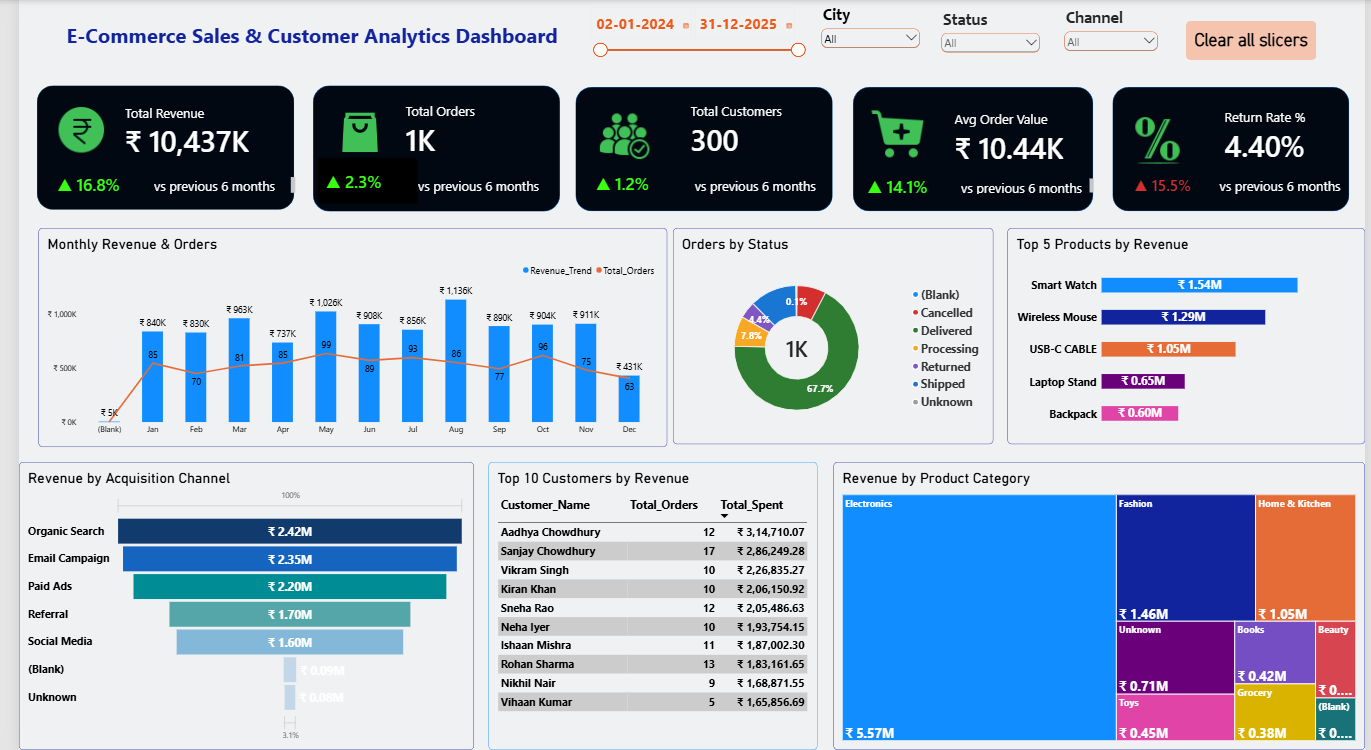

The dashboard page shown, as its layout file describes it:
{"tool":"powerbi","page":{"name":"EXECUTIVE_INSIGHTS","canvas":[2500,1400],"ordinal":0},"visuals":[{"type":"shape","box":[2030.5,161.3,439.6,230.9],"z":0},{"type":"shape","box":[1549.7,161.3,445.9,230.9],"z":1000},{"type":"shape","box":[1034.2,161.3,477.6,230.9],"z":2000},{"type":"shape","box":[545.9,158.8,458.6,234],"z":3000},{"type":"shape","box":[34.8,158.1,477.6,230.9],"z":4000},{"type":"cardVisual","fields":{"Data":["Categories_Clean.Total_Orders_Filtered"]},"box":[702.1,170.8,189.4,144.8],"z":5000},{"type":"cardVisual","fields":{"Data":["Categories_Clean.Total_Customers"]},"box":[1230.3,180.3,206.1,122.5],"z":6000},{"type":"cardVisual","fields":{"Data":["Categories_Clean.Average_Order_value"]},"box":[1720.8,191.2,274.2,129.9],"z":7000},{"type":"cardVisual","fields":{"Data":["Categories_Clean.Return_%_By_Category_Product"]},"box":[2222.9,190.7,244.3,128.1],"z":8000},{"type":"cardVisual","fields":{"Data":["Categories_Clean.Total_Revenue"]},"box":[180.3,177.1,300.5,142.3],"z":9000},{"type":"treemap","title":"Revenue by Product Category","fields":{"Group":["Categories_Clean.category_name"],"Values":["Categories_Clean.Total_Revenue"]},"box":[1511.8,857.1,986.8,534.5],"z":10000},{"type":"donutChart","title":"Orders by Status","fields":{"Category":["dim_orders.Status"],"Y":["Categories_Clean.Total_Orders_By_Product"]},"box":[1214.5,423.8,594.6,401.7],"z":11000},{"type":"slicer","fields":{"Values":["dim_Customers.city"]},"box":[1483.3,9.5,192.9,117],"z":12000},{"type":"slicer","fields":{"Values":["dim_orders.Status"]},"box":[1707.9,15.8,192.9,94.9],"z":13000},{"type":"slicer","fields":{"Values":["dim_Customers.acquisition_channel"]},"box":[1935.6,12.7,183.4,117],"z":14000},{"type":"slicer","fields":{"Values":["Calendar.Date"]},"box":[1056.4,9.5,408,136],"z":15000},{"type":"barChart","title":"Top 5  Products by Revenue","fields":{"Category":["dim_products.product_name"],"Series":["dim_products.product_name"],"Y":["Categories_Clean.Total_Revenue"]},"box":[1834.4,423.8,664.2,401.7],"z":16000},{"type":"funnel","title":"Revenue by Acquisition Channel","fields":{"Category":["dim_Customers.acquisition_channel"],"Y":["Categories_Clean.Total_Revenue"]},"box":[0,857.1,844.4,534.5],"z":17000},{"type":"lineStackedColumnComboChart","title":"Monthly Revenue & Orders","fields":{"Category":["Calendar.Month"],"Y":["Categories_Clean.Total_Revenue"],"Y2":["Categories_Clean.Total_Orders"]},"box":[36.2,423.4,1167,406.6],"z":18000},{"type":"cardVisual","fields":{"Data":["Categories_Clean.Revenue_Trend_Indicator"]},"box":[56.9,291,196.1,82.2],"z":19000},{"type":"image","box":[56.9,196.1,120.2,91.7],"z":20000},{"type":"textbox","box":[250.7,328.7,261.8,30.6],"z":21000},{"type":"image","box":[554.3,200.5,158.1,91.7],"z":22000},{"type":"textbox","box":[740.1,328.9,246.7,44.3],"z":23000},{"type":"image","box":[1046.9,202.4,155,91.7],"z":24000},{"type":"cardVisual","fields":{"Data":["Categories_Clean.Customers_Trend_Indicator"]},"box":[1056.4,306.8,173.9,66.4],"z":25000},{"type":"textbox","box":[1229.1,327.3,263.2,44.9],"z":26000},{"type":"image","box":[1562.4,196.1,145.5,107.5],"z":27000},{"type":"cardVisual","fields":{"Data":["Categories_Clean.AOV_Trend_Indicator"]},"box":[1559.2,309.9,189.8,75.9],"z":28000},{"type":"textbox","box":[1749,332.1,246.7,28.5],"z":29000},{"type":"image","box":[2062.1,211.9,104.4,91.7],"z":30000},{"type":"cardVisual","fields":{"Data":["Categories_Clean.Return_Rate_Trend_Indicator_Category_Product"]},"box":[2055.8,309.9,167.6,69.6],"z":31000},{"type":"textbox","box":[2223.4,328.9,243.5,63.3],"z":32000},{"type":"tableEx","title":"Top 10 Customers by Revenue","fields":{"Values":["dim_Customers.Full_Name","Categories_Clean.Total_Orders_Display","Categories_Clean.Total_Revenue"]},"box":[872.9,857.1,610.4,534.5],"z":33000},{"type":"actionButton","box":[2166.5,38,242.3,72.4],"z":34000},{"type":"cardVisual","fields":{"Data":["Categories_Clean.Orders_Trend_Indicator_Category_Product"]},"box":[554.3,292.4,186.6,86.3],"z":35000},{"type":"textbox","box":[34.8,38,1021.6,72.7],"z":36000}]}

Visuals, with their boxes in screenshot pixels (x1, y1, x2, y2), scaled from the page's 2500x1400 canvas onto the 1371x750 screenshot:
shape: 1114, 86, 1355, 210
shape: 850, 86, 1094, 210
shape: 567, 86, 829, 210
shape: 299, 85, 551, 210
shape: 19, 85, 281, 208
cardVisual - Categories_Clean.Total_Orders_Filtered: 385, 92, 489, 169
cardVisual - Categories_Clean.Total_Customers: 675, 97, 788, 162
cardVisual - Categories_Clean.Average_Order_value: 944, 102, 1094, 172
cardVisual - Categories_Clean.Return_%_By_Category_Product: 1219, 102, 1353, 171
cardVisual - Categories_Clean.Total_Revenue: 99, 95, 264, 171
"Revenue by Product Category" treemap: 829, 459, 1370, 745
"Orders by Status" donutChart: 666, 227, 992, 442
slicer - dim_Customers.city: 813, 5, 919, 68
slicer - dim_orders.Status: 937, 8, 1042, 59
slicer - dim_Customers.acquisition_channel: 1061, 7, 1162, 69
slicer - Calendar.Date: 579, 5, 803, 78
"Top 5  Products by Revenue" barChart: 1006, 227, 1370, 442
"Revenue by Acquisition Channel" funnel: 0, 459, 463, 745
"Monthly Revenue & Orders" lineStackedColumnComboChart: 20, 227, 660, 445
cardVisual - Categories_Clean.Revenue_Trend_Indicator: 31, 156, 139, 200
image: 31, 105, 97, 154
textbox: 137, 176, 281, 192
image: 304, 107, 391, 157
textbox: 406, 176, 541, 200
image: 574, 108, 659, 158
cardVisual - Categories_Clean.Customers_Trend_Indicator: 579, 164, 675, 200
textbox: 674, 175, 818, 199
image: 857, 105, 937, 163
cardVisual - Categories_Clean.AOV_Trend_Indicator: 855, 166, 959, 207
textbox: 959, 178, 1094, 193
image: 1131, 114, 1188, 163
cardVisual - Categories_Clean.Return_Rate_Trend_Indicator_Category_Product: 1127, 166, 1219, 203
textbox: 1219, 176, 1353, 210
"Top 10 Customers by Revenue" tableEx: 479, 459, 813, 745
actionButton: 1188, 20, 1321, 59
cardVisual - Categories_Clean.Orders_Trend_Indicator_Category_Product: 304, 157, 406, 203
textbox: 19, 20, 579, 59
